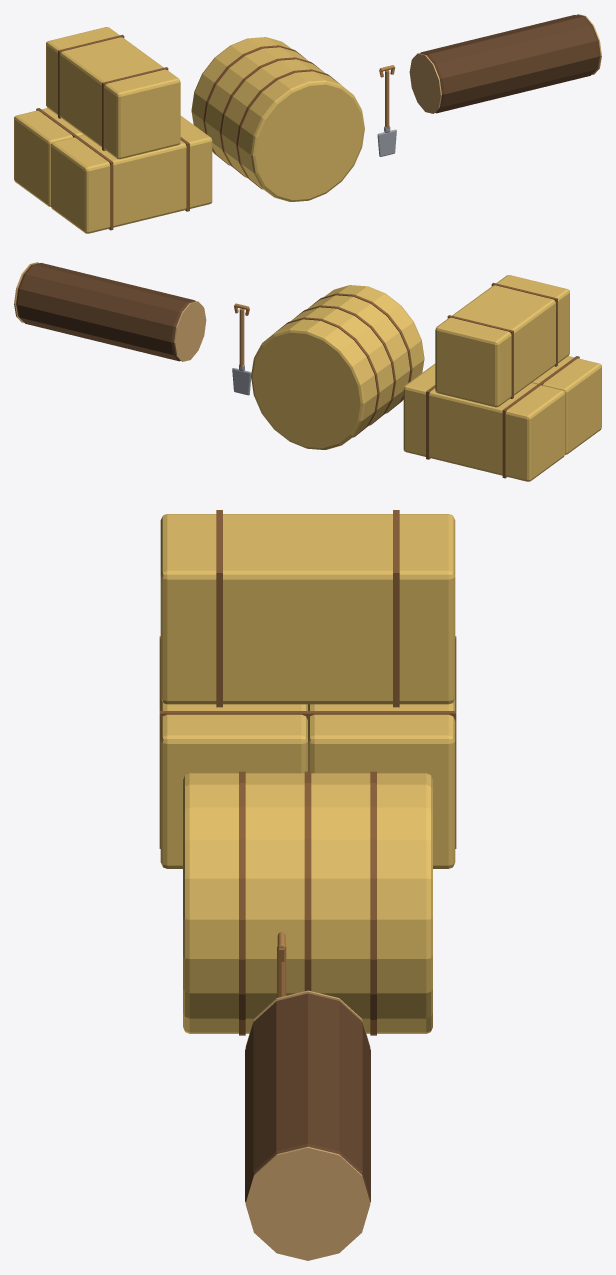
File: lt2_plain.glb
3 views of the same model, one above another, from view 1: azimuth 30°, elevation 25°; view 2: azimuth 150°, elevation 25°; view 3: azimuth 270°, elevation 25° (orthographic). The views are drawn at different scales.
Parts seen in each view (by area): view 1: RoundBale, SquareBale.002, SquareBale, Log, SquareBale.001, SmallShovel; view 2: RoundBale, SquareBale.002, SquareBale.001, Log, SquareBale, SmallShovel; view 3: RoundBale, SquareBale.002, Log, SquareBale, SquareBale.001.
Part boxes in pixels (x1,y1,x2,y2): RoundBale: (191,37,364,201); SquareBale.002: (46,27,180,159); SquareBale: (50,116,212,233); Log: (409,14,601,113); SquareBale.001: (14,108,83,206); SmallShovel: (377,65,396,156); RoundBale: (251,285,424,449); SquareBale.002: (435,275,569,407); SquareBale.001: (403,364,565,481); Log: (14,262,206,361); SquareBale: (532,356,601,454); SmallShovel: (232,303,251,395); RoundBale: (183,771,432,1035); SquareBale.002: (160,510,455,707); Log: (245,990,370,1260); SquareBale: (159,636,308,868); SquareBale.001: (307,636,456,868).
Size of the model in its own units: 4.72 by 1.35 by 1.13.
